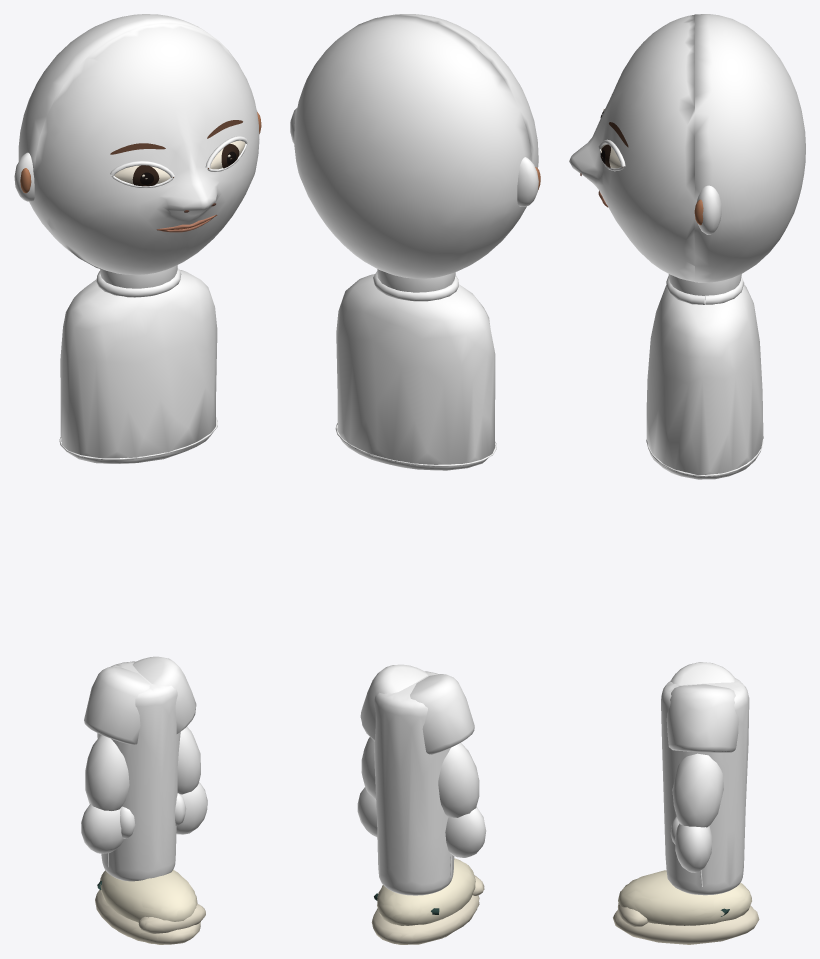
File: base-female.glb
3 views of the same model, side by side, from view 1: azimuth 30°, elevation 25°; view 2: azimuth 150°, elevation 25°; view 3: azimuth 270°, elevation 25° (orthographic).
Parts seen in each view (by area): view 1: head__skin, body__shirt, leftLeg__trousers, leftForearm__skin, leftLeg__fixed, leftUpperArm__shirt, rightLeg__fixed, head__fixed, rightForearm__skin, rightLeg__trousers, rightUpperArm__shirt; view 2: head__skin, body__shirt, leftLeg__trousers, rightLeg__trousers, leftForearm__skin, leftUpperArm__shirt, leftLeg__fixed, rightLeg__fixed, rightUpperArm__shirt, rightForearm__skin; view 3: head__skin, body__shirt, leftLeg__trousers, leftLeg__fixed, rightForearm__skin, rightUpperArm__shirt, rightLeg__trousers, rightLeg__fixed, leftUpperArm__shirt, head__fixed.
Boxes of the visible parts, box(x1,y1,x2,y2) form: head__skin: box(14, 14, 259, 288); body__shirt: box(59, 268, 217, 463); leftLeg__trousers: box(97, 661, 180, 881); leftForearm__skin: box(81, 735, 135, 853); leftLeg__fixed: box(95, 870, 205, 944); leftUpperArm__shirt: box(84, 666, 150, 744); rightLeg__fixed: box(95, 871, 205, 944); head__fixed: box(20, 112, 261, 232); rightForearm__skin: box(175, 727, 207, 834); rightLeg__trousers: box(98, 661, 179, 880); rightUpperArm__shirt: box(132, 656, 196, 733); head__skin: box(290, 14, 538, 292); body__shirt: box(335, 271, 496, 470); leftLeg__trousers: box(374, 671, 454, 895); rightLeg__trousers: box(374, 683, 452, 894); leftForearm__skin: box(438, 742, 486, 857); leftUpperArm__shirt: box(410, 674, 474, 754); leftLeg__fixed: box(372, 858, 484, 944); rightLeg__fixed: box(371, 860, 484, 944); rightUpperArm__shirt: box(360, 664, 427, 741); rightForearm__skin: box(357, 737, 377, 837); head__skin: box(569, 14, 805, 299); body__shirt: box(646, 276, 763, 479); leftLeg__trousers: box(661, 678, 749, 895); leftLeg__fixed: box(614, 870, 759, 942); rightForearm__skin: box(670, 753, 723, 872); rightUpperArm__shirt: box(666, 684, 738, 752); rightLeg__trousers: box(661, 684, 749, 894); rightLeg__fixed: box(613, 870, 758, 944); leftUpperArm__shirt: box(671, 662, 735, 685); head__fixed: box(580, 109, 703, 225).
Size of the model in its own units: 0.8515 by 3.02 by 0.7127.
